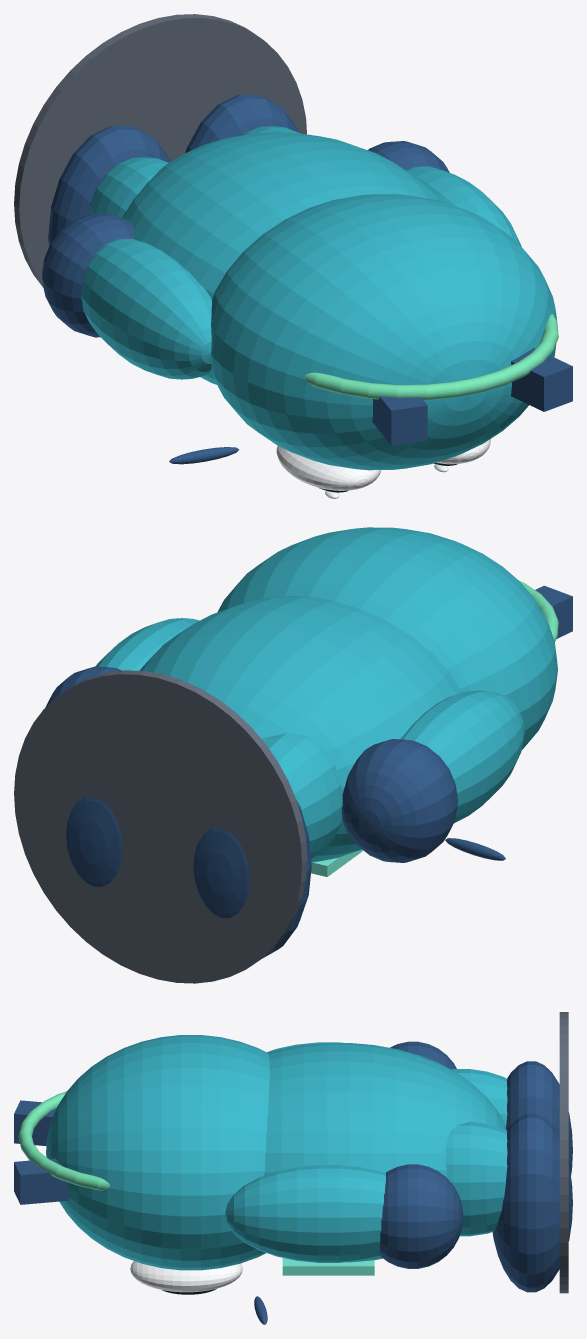
File: luma_reaction_happy.glb
The picture shows the model from 3 angles, top to bottom: view 1: azimuth 30°, elevation 25°; view 2: azimuth 150°, elevation 25°; view 3: azimuth 270°, elevation 25°; orthographic projection. The views are drawn at different scales.
Parts seen in each view (by area): view 1: CHR_Head, CHR_DisplayBase, CHR_Torso, CHR_LeftArm, CHR_LeftHand, CHR_LeftFoot, CHR_StatusRing, CHR_RightFoot, CHR_LeftLeg, CHR_RightArm, CHR_RightAntenna, CHR_LeftAntenna (+3 smaller); view 2: CHR_DisplayBase, CHR_Torso, CHR_Head, CHR_LeftHand, CHR_LeftArm, CHR_LeftLeg, CHR_LeftFoot, CHR_RightFoot, CHR_RightArm, CHR_LeftAntenna, CHR_RightHand, CHR_LeftBrow (+2 smaller); view 3: CHR_Head, CHR_Torso, CHR_RightArm, CHR_RightFoot, CHR_RightHand, CHR_RightLeg, CHR_LeftFoot, CHR_DisplayBase, CHR_RightEyeWhite, CHR_StatusRing, CHR_RightAntenna, CHR_ChestSensor (+3 smaller).
Part boxes in pixels (<box>): CHR_Head: <box>211,194,557,470</box>; CHR_DisplayBase: <box>14,14,306,287</box>; CHR_Torso: <box>122,132,440,384</box>; CHR_LeftArm: <box>81,238,211,379</box>; CHR_LeftHand: <box>42,213,134,337</box>; CHR_LeftFoot: <box>48,126,170,246</box>; CHR_StatusRing: <box>304,314,558,400</box>; CHR_RightFoot: <box>185,95,299,152</box>; CHR_LeftLeg: <box>89,157,168,217</box>; CHR_RightArm: <box>406,166,521,246</box>; CHR_RightAntenna: <box>511,347,572,411</box>; CHR_LeftAntenna: <box>372,396,427,445</box>; CHR_DisplayBase: <box>14,670,307,983</box>; CHR_Torso: <box>140,595,461,862</box>; CHR_Head: <box>217,527,557,749</box>; CHR_LeftHand: <box>342,739,457,862</box>; CHR_LeftArm: <box>400,690,524,822</box>; CHR_LeftLeg: <box>262,733,342,859</box>; CHR_LeftFoot: <box>193,800,311,958</box>; CHR_RightFoot: <box>66,797,122,886</box>; CHR_RightArm: <box>96,618,199,670</box>; CHR_LeftAntenna: <box>535,585,572,638</box>; CHR_RightHand: <box>45,666,121,707</box>; CHR_LeftBrow: <box>445,838,505,860</box>; CHR_Head: <box>46,1035,269,1270</box>; CHR_Torso: <box>264,1043,506,1262</box>; CHR_RightArm: <box>225,1165,385,1262</box>; CHR_RightFoot: <box>492,1113,572,1292</box>; CHR_RightHand: <box>380,1164,463,1268</box>; CHR_RightLeg: <box>445,1121,507,1236</box>; CHR_LeftFoot: <box>506,1061,572,1175</box>; CHR_DisplayBase: <box>559,1012,568,1293</box>; CHR_RightEyeWhite: <box>130,1261,242,1292</box>; CHR_StatusRing: <box>18,1091,109,1190</box>; CHR_RightAntenna: <box>14,1158,69,1204</box>; CHR_ChestSensor: <box>282,1258,374,1275</box>.
Bounding box in the file's own units: 2.64 × 1.9 × 3.78.
